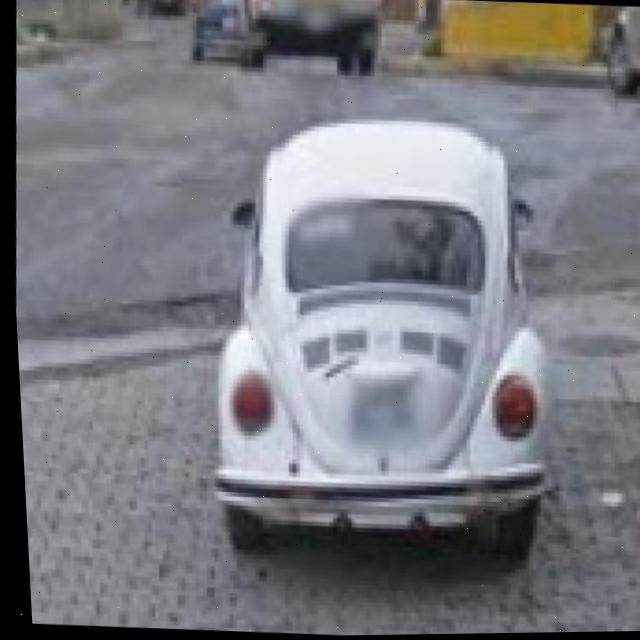vehicle: (195, 112, 575, 583)
